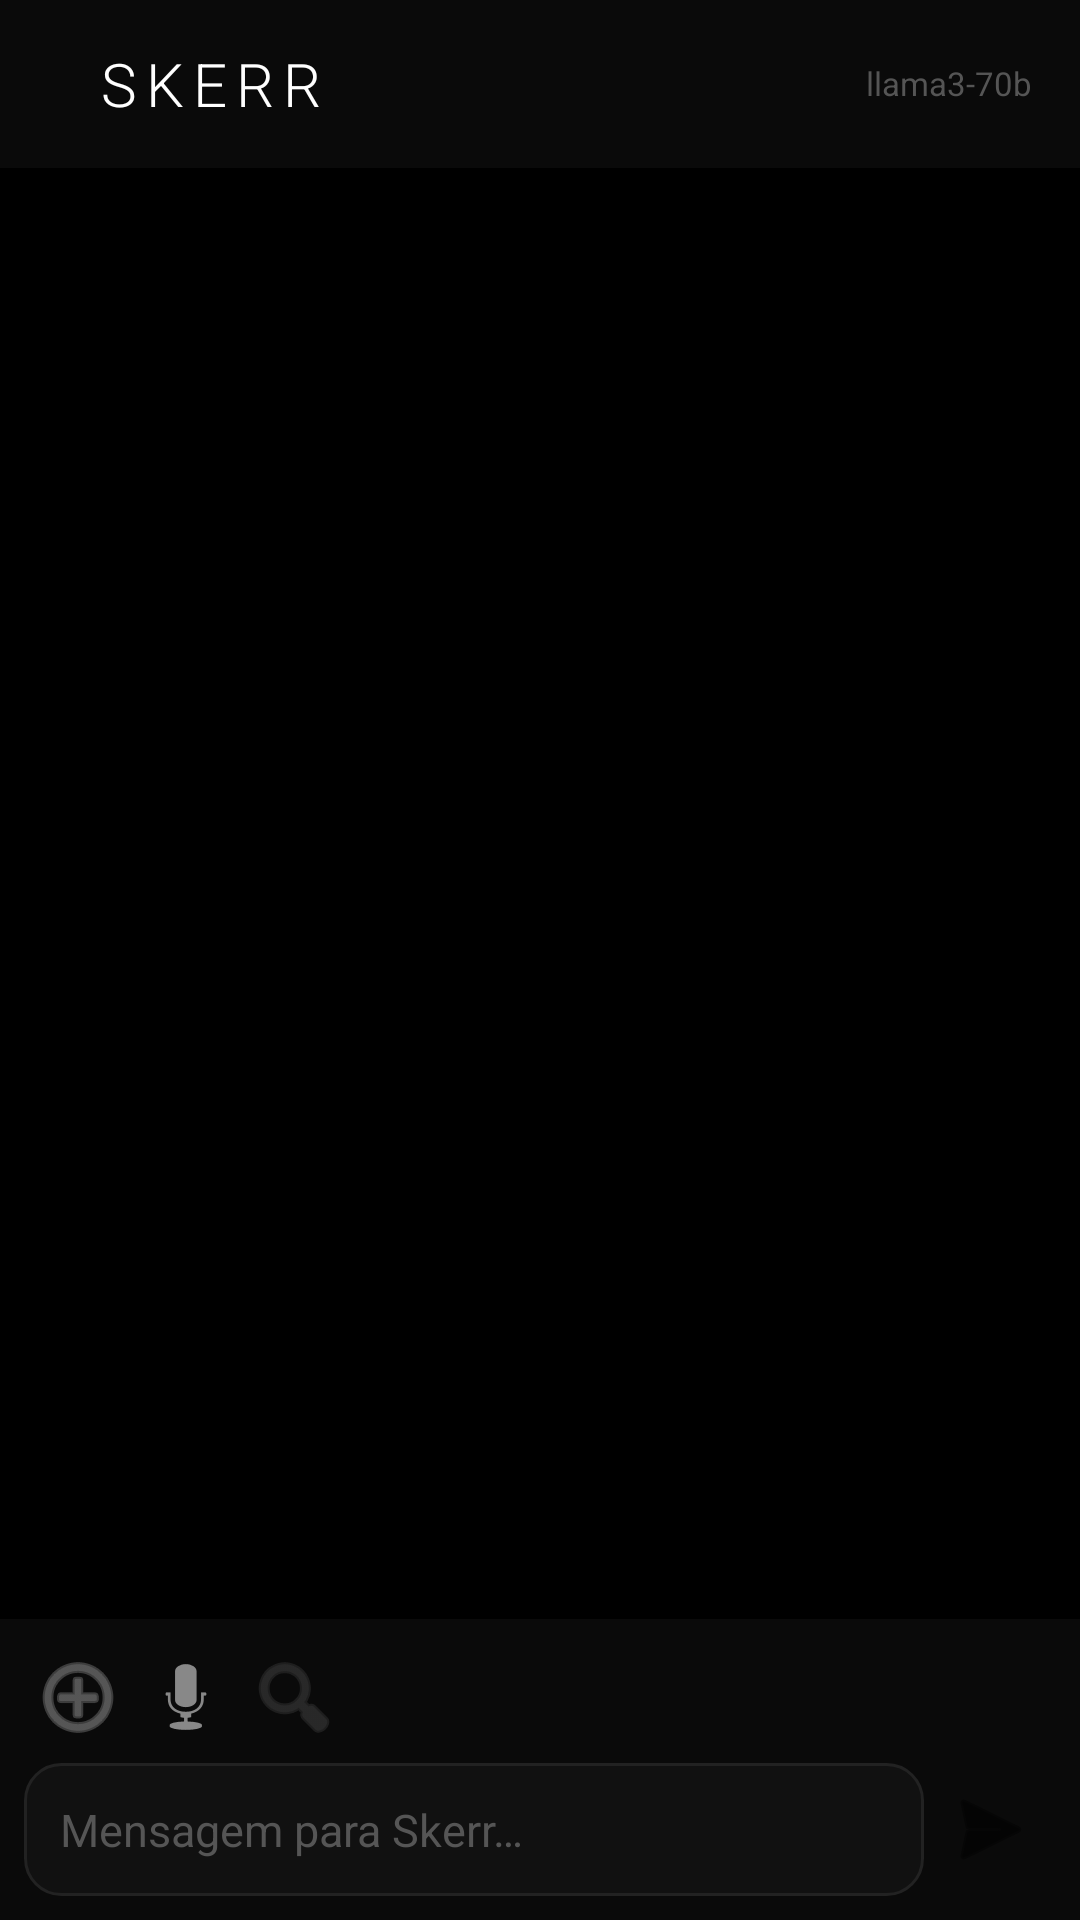

Named icons in this screenshot (1080px x 1920px) and their centers, (x=x, y=y):
Anexar: (x=78, y=1697)
Busca web: (x=294, y=1697)
Voz: (x=186, y=1697)
